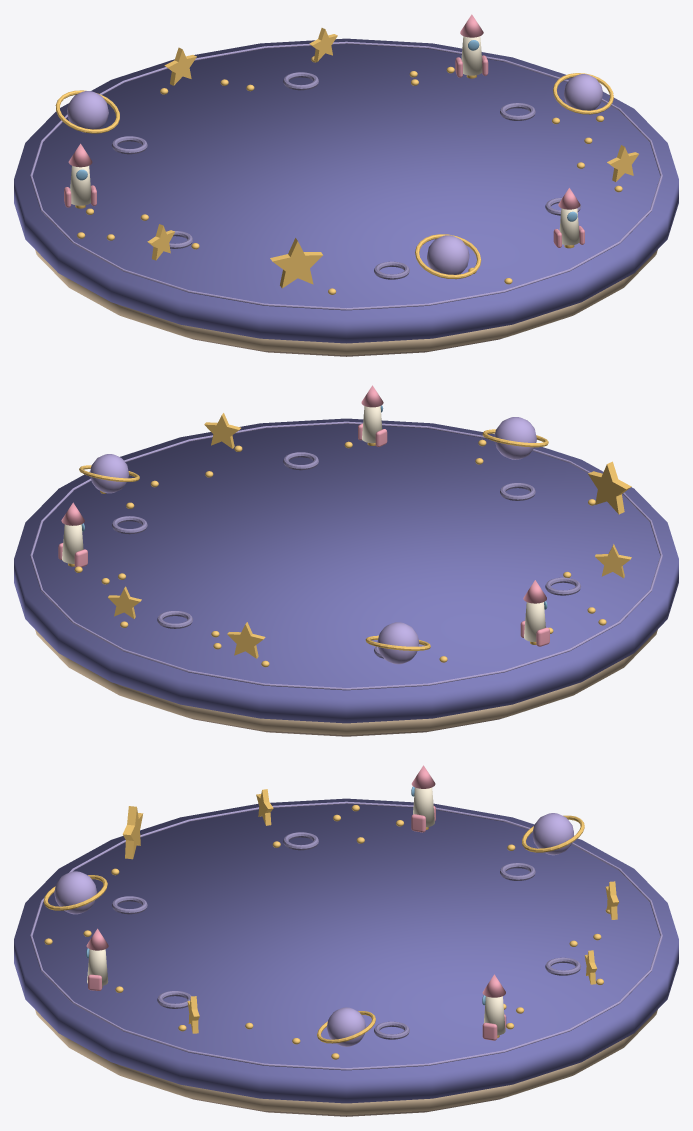
The model's file is world.glb.
3 views of the same model, one above another, from view 1: azimuth 30°, elevation 25°; view 2: azimuth 150°, elevation 25°; view 3: azimuth 270°, elevation 25° (orthographic).
Parts seen in each view (by area): view 1: Cone, Cone.001, Torus.048, planet.003, planet.002, planet.001, rocket.002, rocket.001, star.004, rocket.003, star.002, star.005 (+2 smaller); view 2: Cone, Cone.001, Torus.048, planet.003, planet.002, planet.001, rocket.002, rocket.001, rocket.003, star.004, star.002, star.005 (+3 smaller); view 3: Cone, Cone.001, Torus.048, planet.003, planet.002, planet.001, rocket.002, rocket.001, rocket.003, star.004, Cone.002.
Part boxes in pixels (x1,y1,x2,y2): Cone: (14, 38, 678, 343); Cone.001: (35, 249, 657, 355); Torus.048: (30, 41, 662, 310); planet.003: (415, 234, 481, 279); planet.002: (55, 90, 119, 133); planet.001: (553, 73, 613, 114); rocket.002: (64, 143, 96, 208); rocket.001: (455, 14, 488, 78); star.004: (270, 238, 322, 288); rocket.003: (553, 188, 584, 248); star.002: (164, 47, 196, 85); star.005: (607, 145, 638, 181); Cone: (14, 418, 678, 723); Cone.001: (35, 629, 657, 735); Torus.048: (30, 421, 662, 690); planet.003: (482, 417, 548, 459); planet.002: (365, 622, 430, 664); planet.001: (79, 454, 139, 493); rocket.002: (520, 580, 549, 646); rocket.001: (58, 502, 87, 567); rocket.003: (358, 385, 387, 446); star.004: (588, 461, 631, 514); star.002: (227, 622, 265, 658); star.005: (204, 413, 240, 448); Cone: (14, 798, 678, 1103); Cone.001: (35, 1009, 657, 1115); Torus.048: (30, 801, 662, 1070); planet.003: (43, 871, 107, 914); planet.002: (522, 813, 584, 855); planet.001: (317, 1007, 375, 1046); rocket.002: (411, 765, 435, 832); rocket.001: (482, 974, 506, 1040); rocket.003: (86, 928, 108, 990); star.004: (122, 806, 143, 859); Cone.002: (188, 1097, 504, 1116).
Size of the model in its own units: 9.6 by 1.77 by 9.6.
